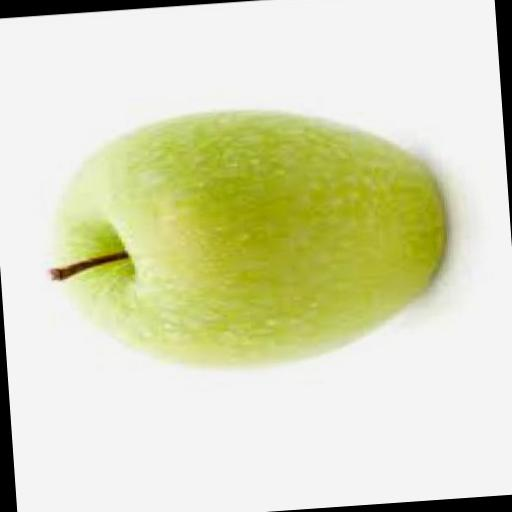biodegradable: (51, 92, 448, 369)
